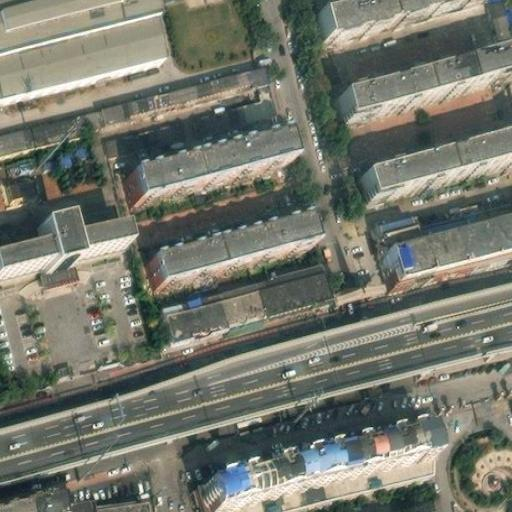building: (200, 426, 425, 512), (163, 257, 332, 335), (208, 454, 431, 512), (337, 45, 512, 114), (123, 133, 287, 199), (147, 221, 310, 287), (360, 130, 512, 197), (384, 207, 512, 273), (0, 217, 119, 273), (316, 0, 460, 35), (378, 207, 423, 241), (235, 90, 278, 122), (90, 499, 146, 512), (44, 260, 78, 281), (257, 77, 273, 93)
